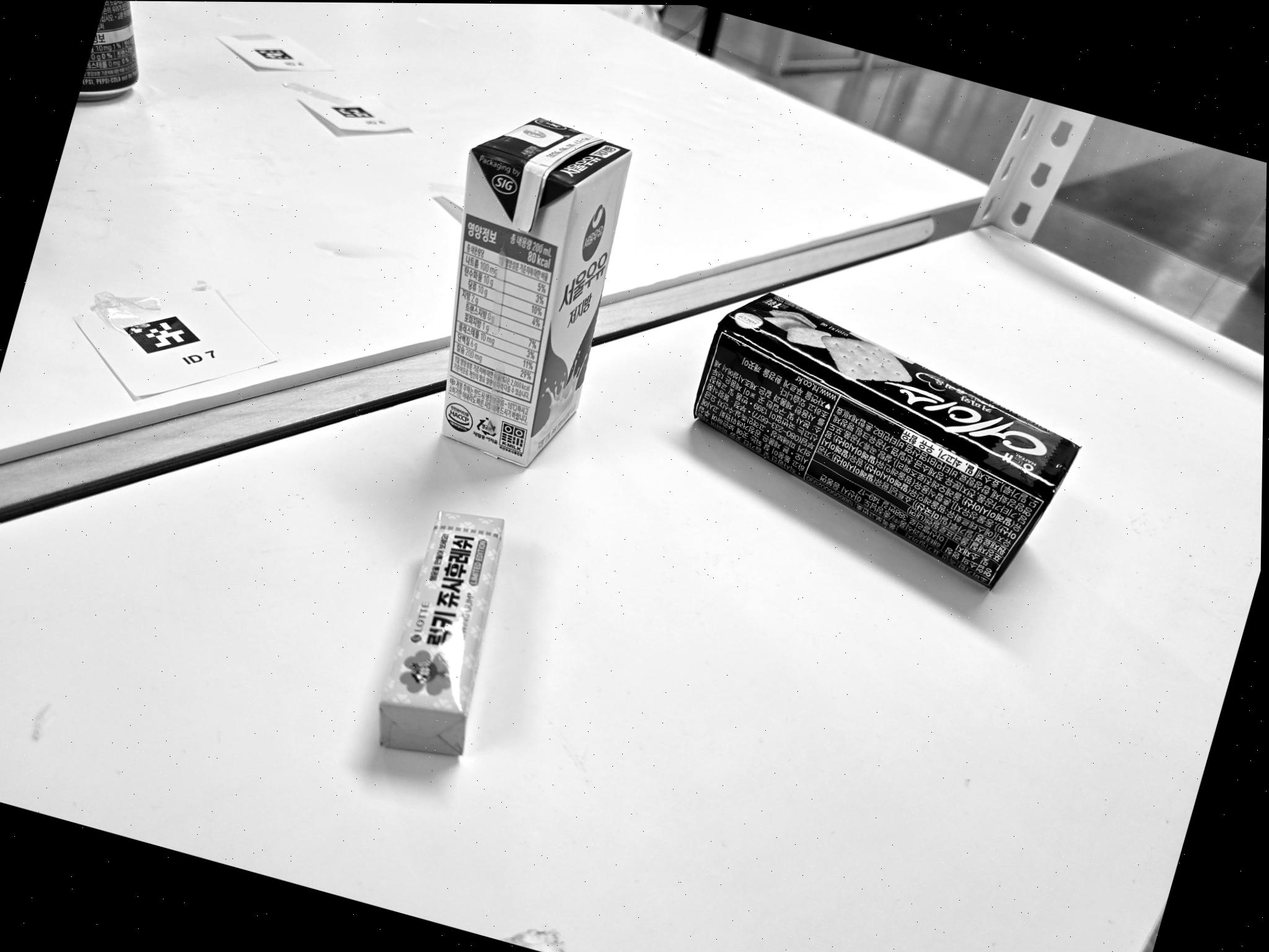cracker_ace: (694, 294, 1078, 587)
gum_yellow: (378, 511, 504, 755)
milk_blue: (442, 119, 630, 465)
